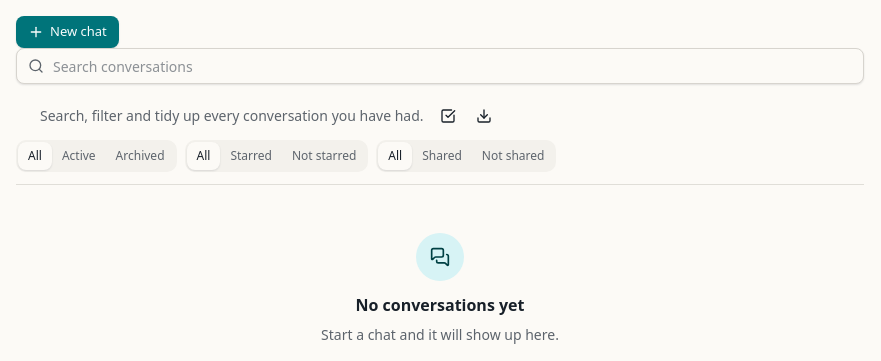
Test: RecentPage list › names the active filters when nothing matches
This screenshot has width=881, height=361.
Expected: the heading "No conversations yet" is shown, [356, 293, 524, 317]
Click the radio button labelled "Archived" at coordinates (140, 156), box [106, 142, 174, 170]
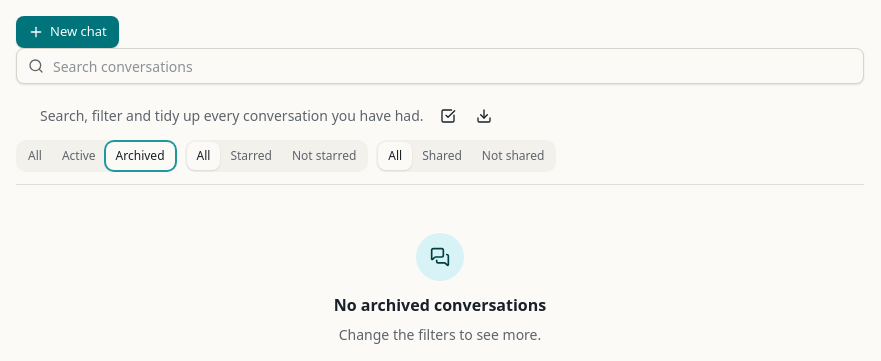
Click the radio button labelled "Shared" at coordinates (442, 156), box [412, 142, 472, 170]
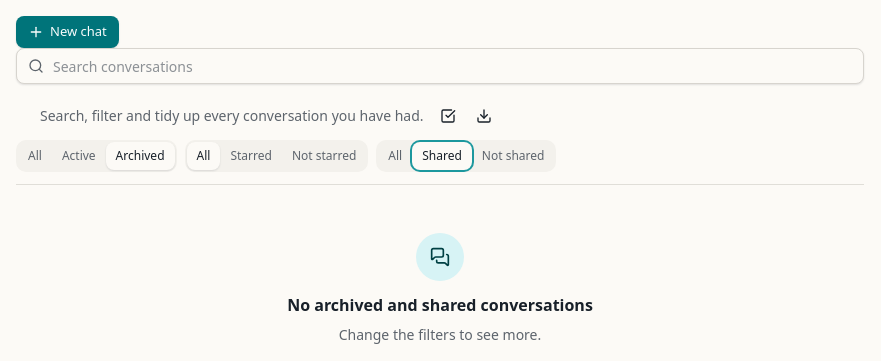
Result: the heading "No archived and shared conversations" is shown at [287, 293, 593, 317]
